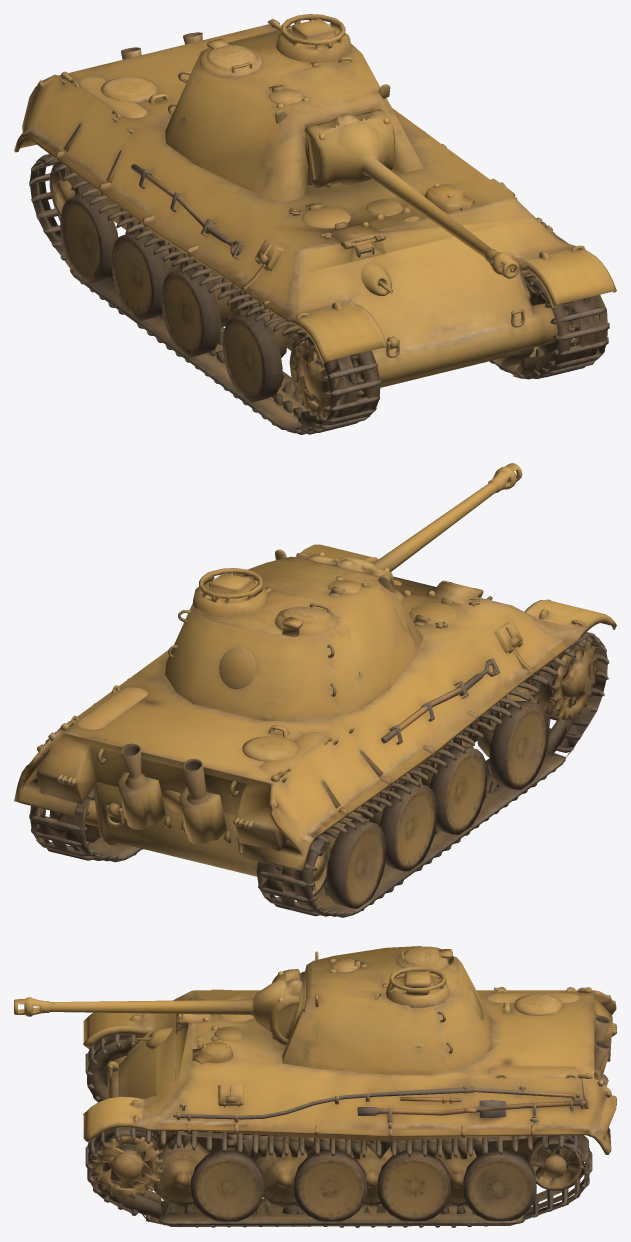
File: tank-panther-g.glb
The picture shows the model from 3 angles, top to bottom: view 1: azimuth 30°, elevation 25°; view 2: azimuth 150°, elevation 25°; view 3: azimuth 270°, elevation 25°; orthographic projection. The views are drawn at different scales.
Visible parts, largest first — view 1: Hull, Turret, Gun; view 2: Hull, Turret, Gun; view 3: Hull, Turret, Gun.
Boxes of the visible parts, left/top/right/bottom form: Hull: left=14, top=19, right=616, bottom=434; Turret: left=165, top=14, right=422, bottom=202; Gun: left=364, top=159, right=519, bottom=278; Hull: left=14, top=544, right=616, bottom=917; Turret: left=165, top=549, right=423, bottom=721; Gun: left=373, top=463, right=522, bottom=572; Hull: left=83, top=987, right=616, bottom=1227; Turret: left=249, top=946, right=491, bottom=1074; Gun: left=14, top=997, right=248, bottom=1016.
Bounding box in the file's own units: 0.4683 × 0.3911 × 0.9995.
1 material, 1 textured.
